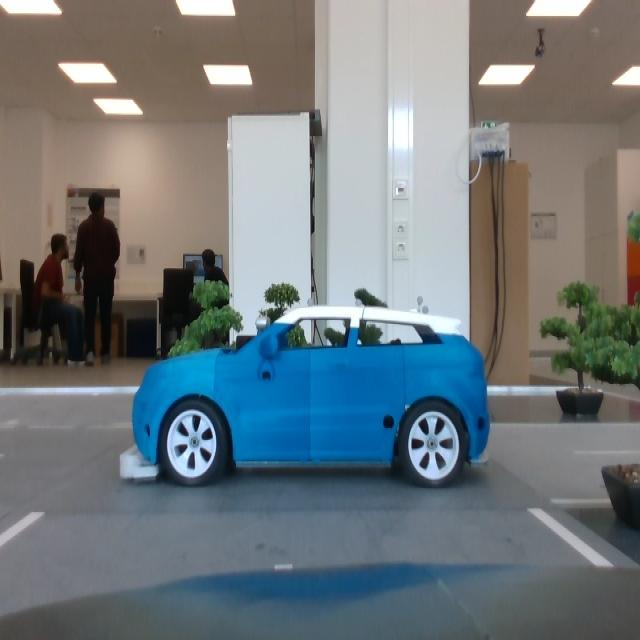car: (117, 302, 492, 490)
potted plant: (538, 281, 640, 416), (160, 277, 243, 415), (328, 286, 403, 418), (255, 281, 314, 417)
